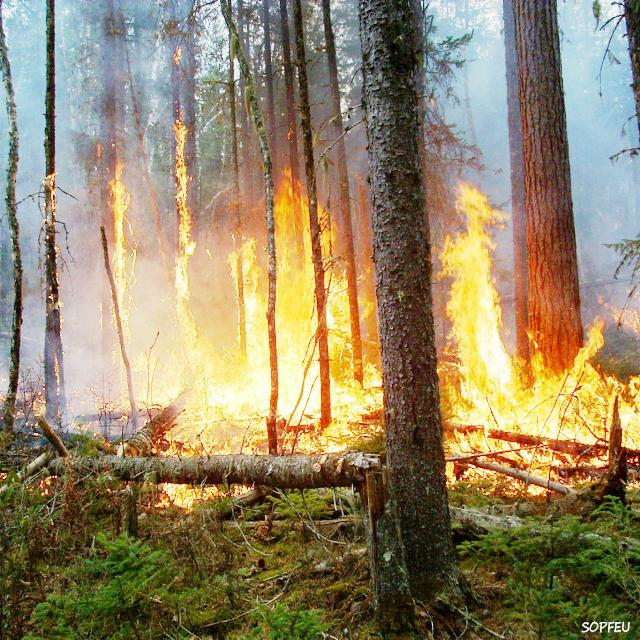api: (442, 182, 525, 486), (230, 193, 320, 438), (519, 343, 640, 481), (327, 240, 382, 449), (167, 120, 202, 404), (106, 167, 145, 413), (161, 410, 315, 463), (153, 482, 252, 511), (206, 331, 230, 412), (588, 315, 604, 351)
